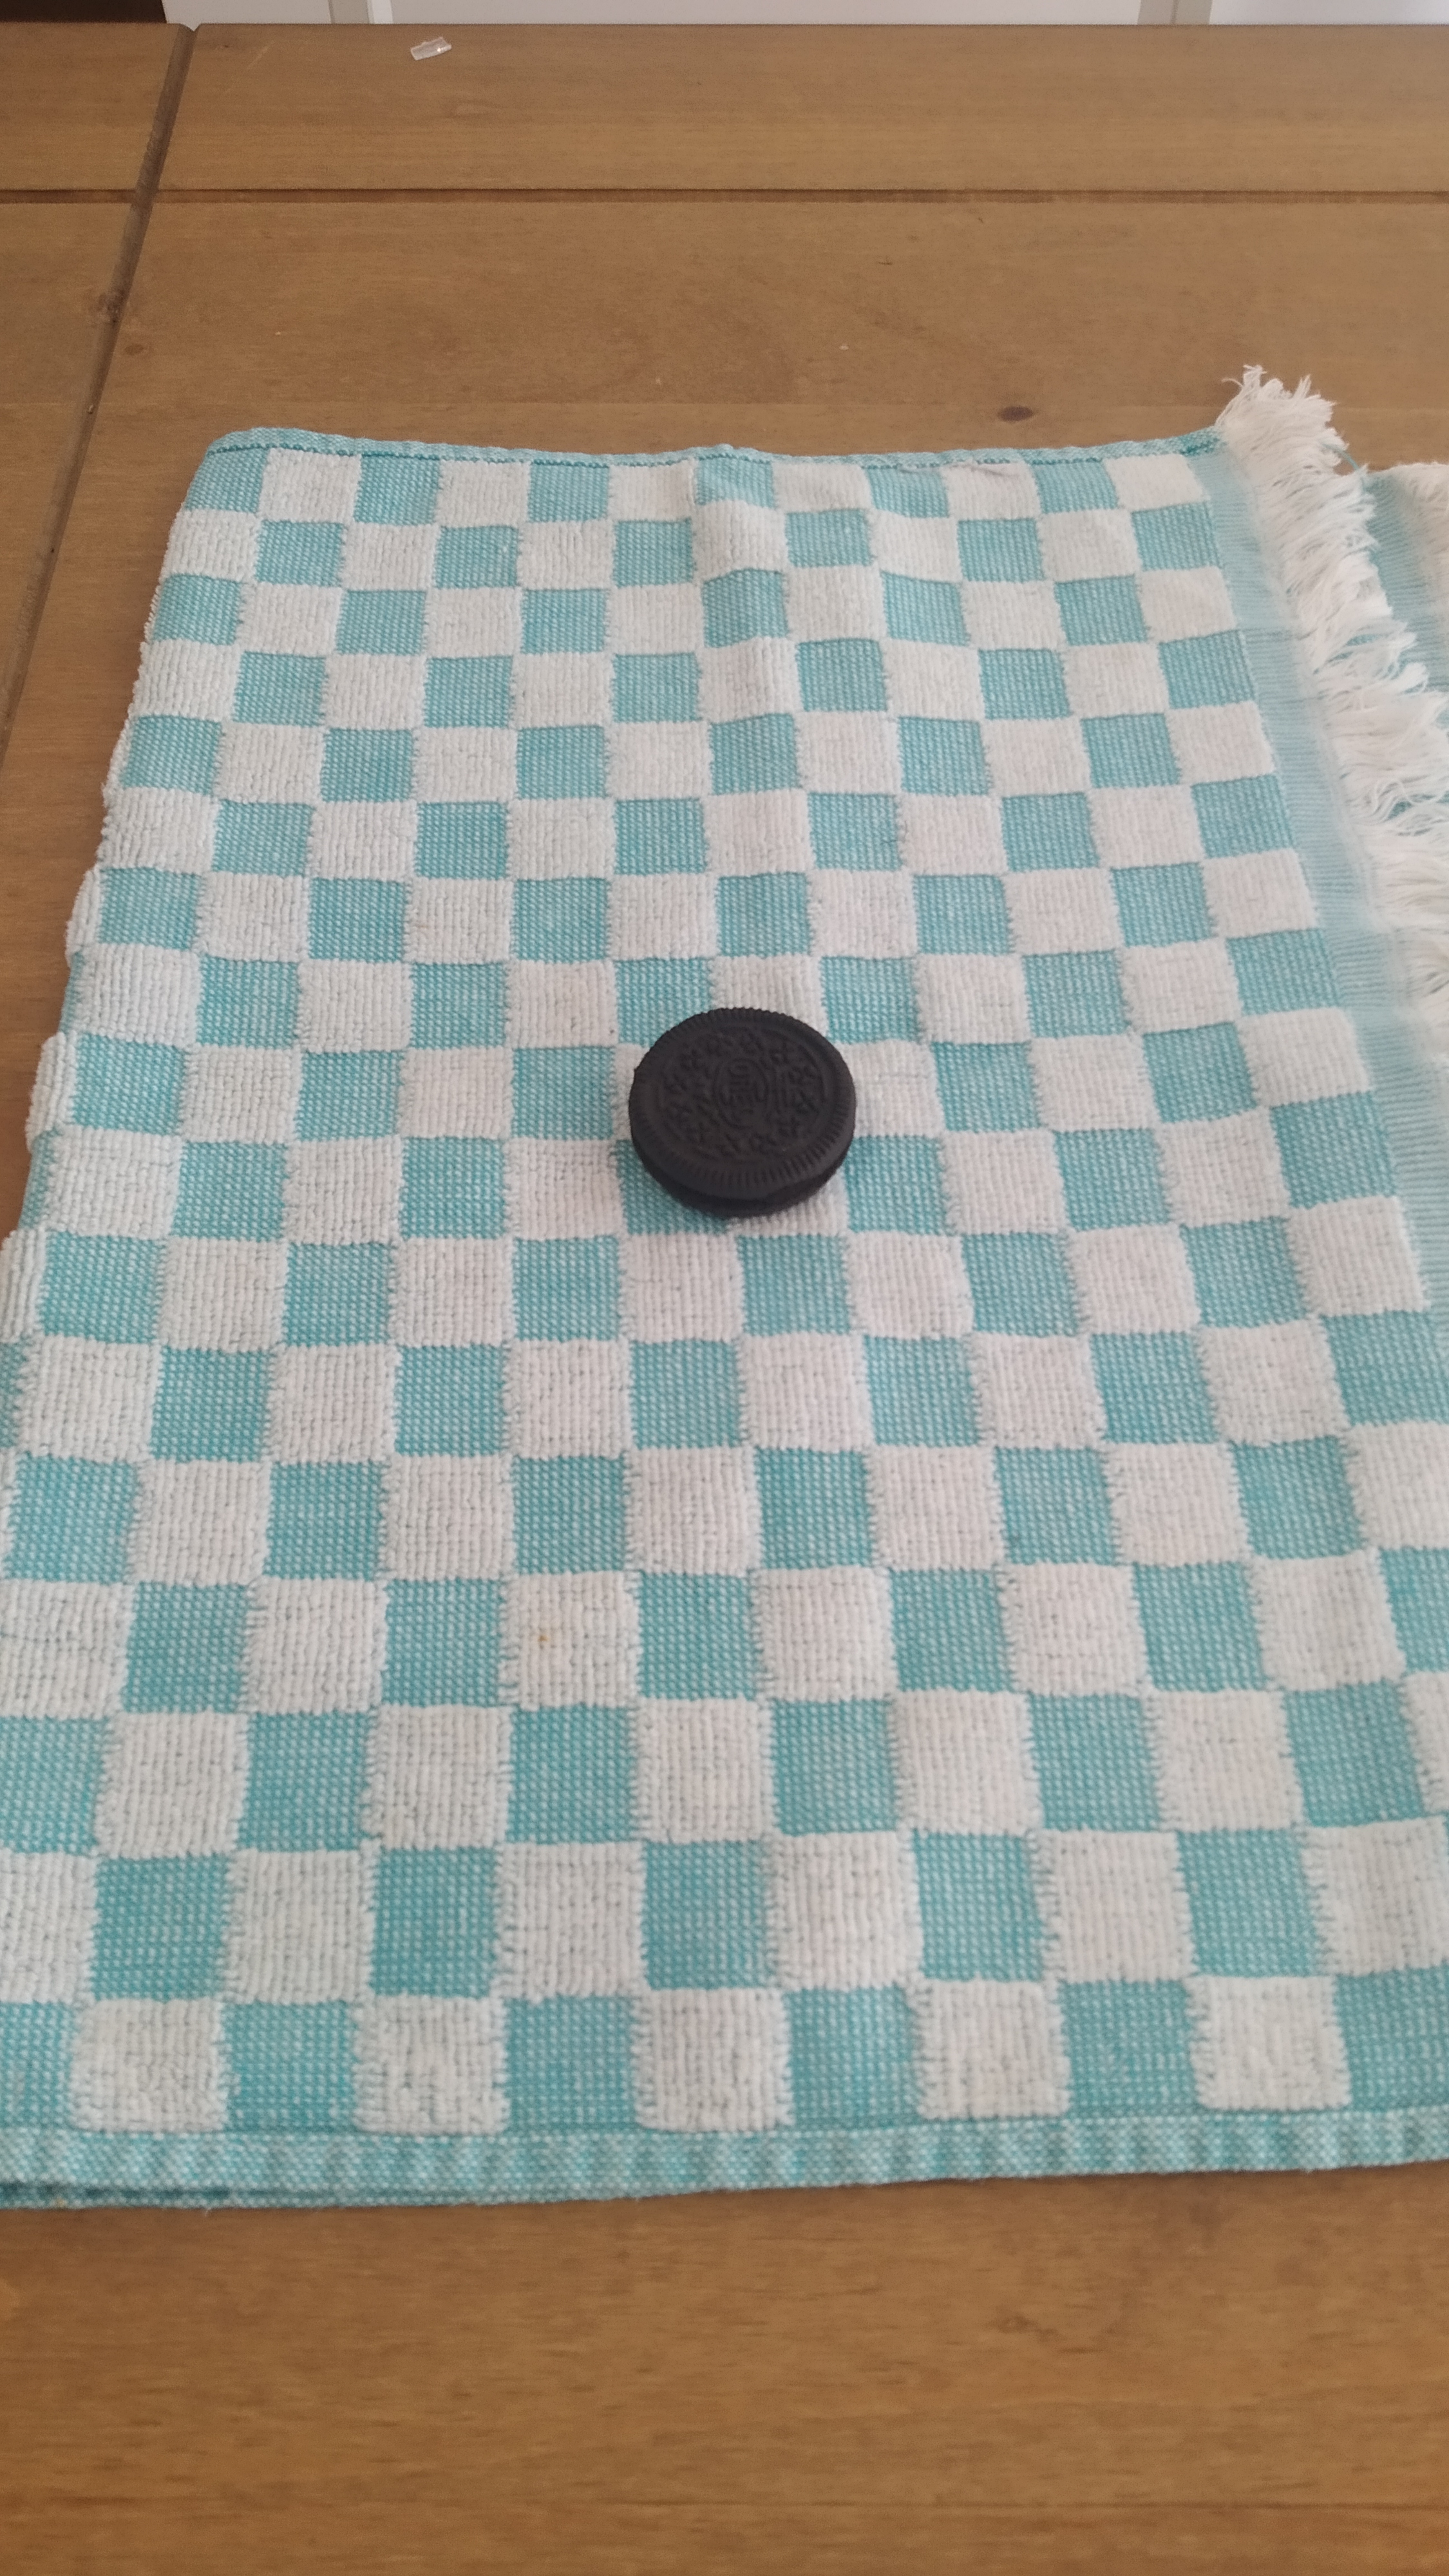oreo: (628, 1007, 856, 1219)
